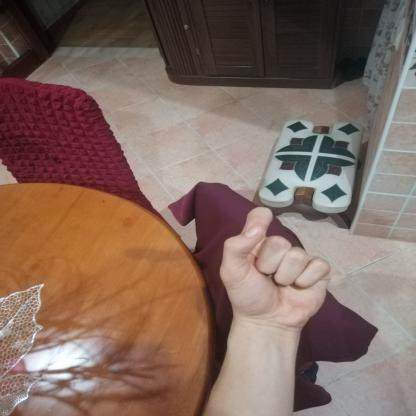FAA: (212, 201, 340, 333)
